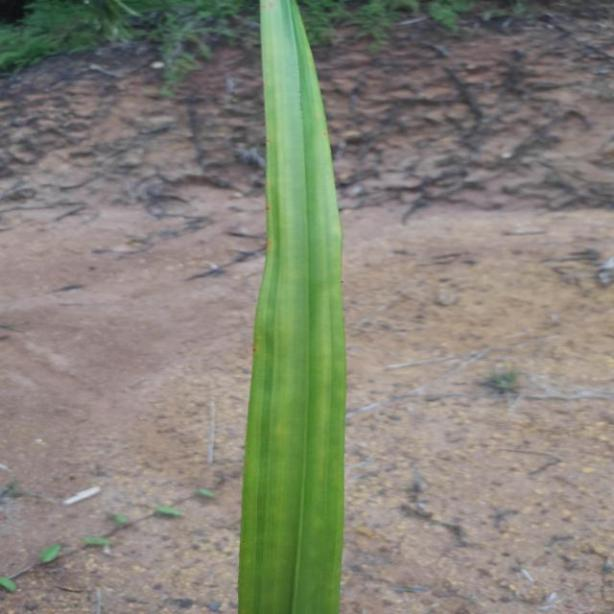nitrogen: (237, 0, 347, 614)
